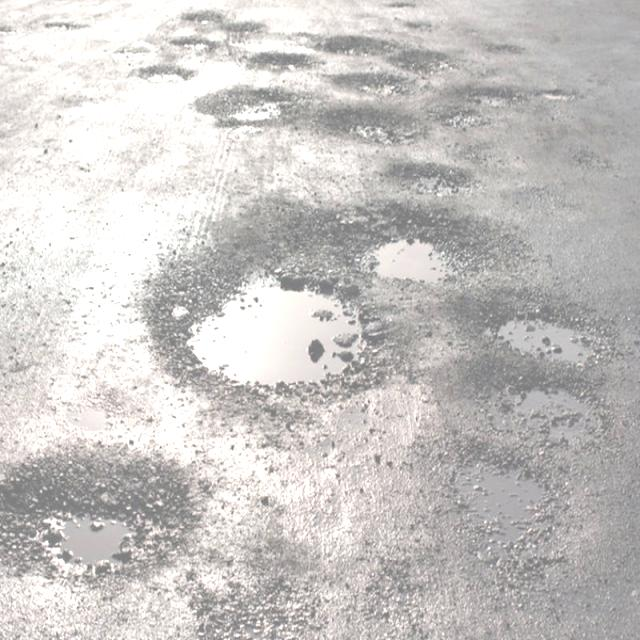Pothole: (106, 6, 640, 568), (13, 364, 640, 630)
